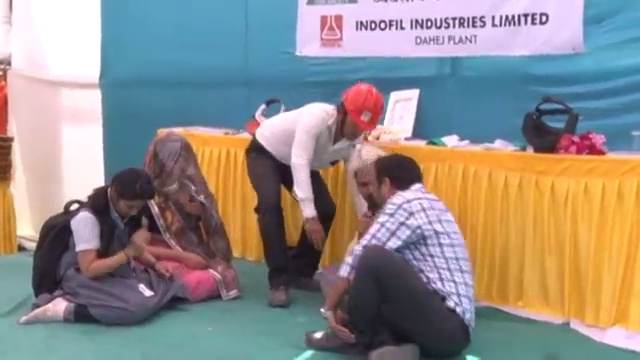helmet: (344, 85, 385, 133)
helmet_off: (150, 135, 199, 204), (372, 149, 424, 208), (104, 169, 158, 225), (352, 147, 390, 216)
helmet_on: (332, 85, 387, 137)
person: (306, 147, 478, 360), (244, 82, 384, 310), (31, 163, 190, 320), (135, 131, 238, 306), (315, 147, 392, 318)
